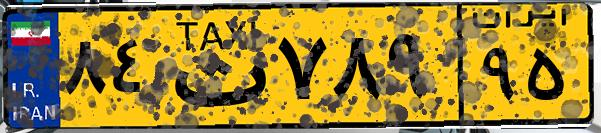4: (110, 28, 158, 98)
5: (525, 38, 570, 115)
7: (270, 28, 330, 110)
8: (330, 28, 385, 110), (57, 26, 110, 100)
9: (385, 28, 445, 110), (475, 38, 525, 113)
ت: (158, 12, 270, 120)
